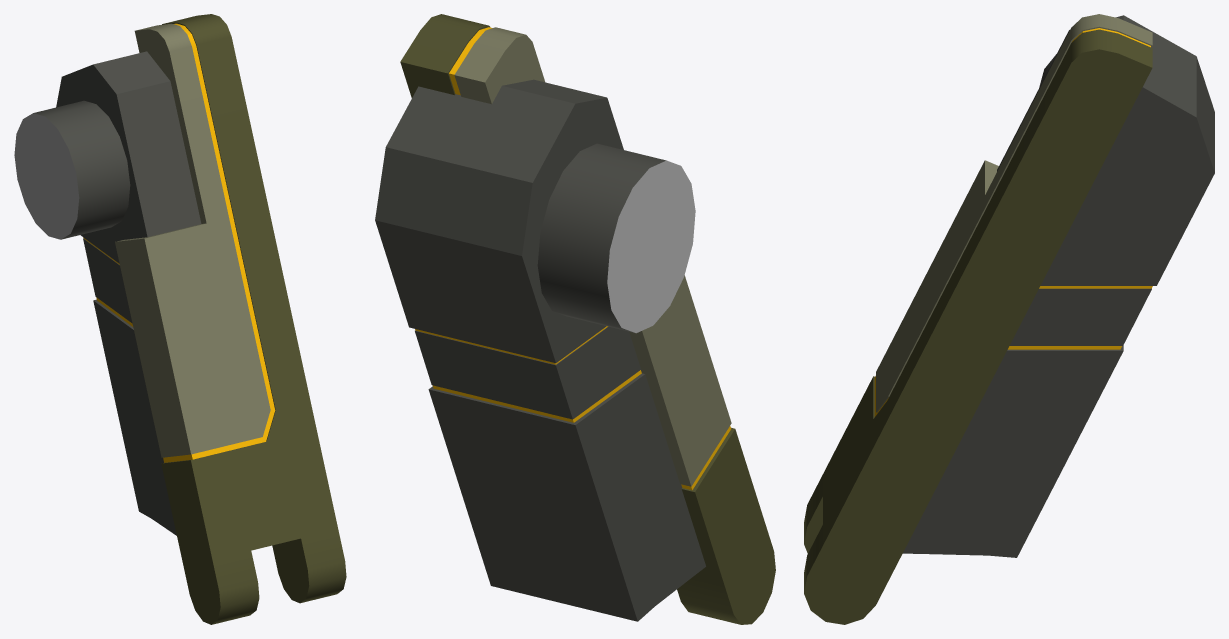
Rendered from Bot_R_LegTop.fbx.
3 views of the same model, side by side, from view 1: azimuth 30°, elevation 25°; view 2: azimuth 150°, elevation 25°; view 3: azimuth 270°, elevation 25° (orthographic). The views are drawn at different scales.
Parts seen in each view (by area): view 1: R_LegTop; view 2: R_LegTop; view 3: R_LegTop.
Part boxes in pixels (box(x1,y1,x2,y2)): R_LegTop: box(14, 14, 346, 624); R_LegTop: box(375, 14, 775, 624); R_LegTop: box(804, 14, 1214, 624).
Size of the model in its own units: 1532 by 4330 by 2802.
